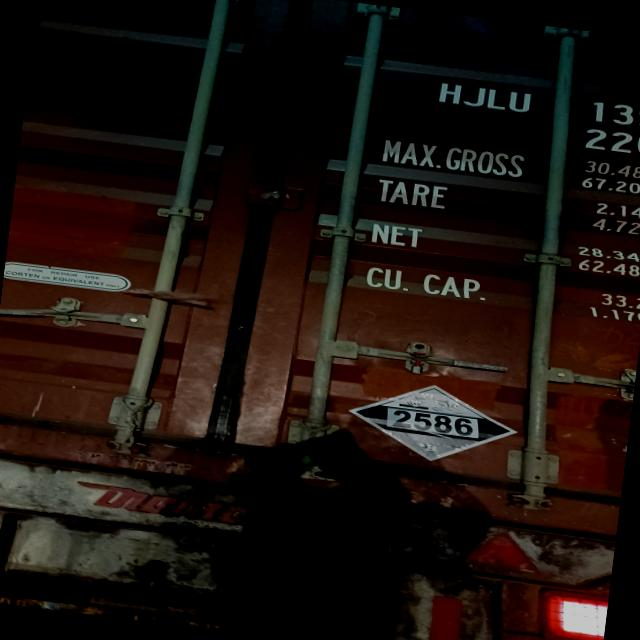seal: (410, 349, 427, 376)
